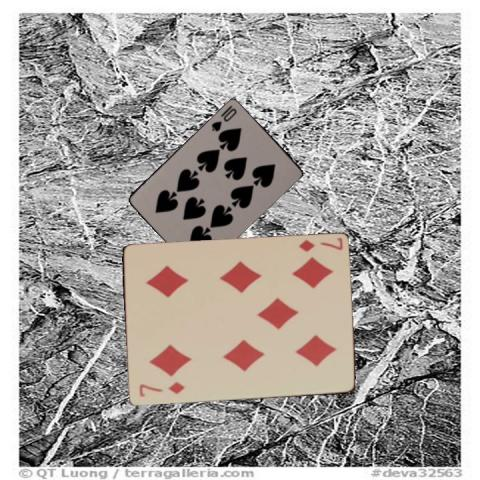10s: (209, 104, 238, 132)
7d: (136, 379, 186, 399), (295, 235, 344, 253)
